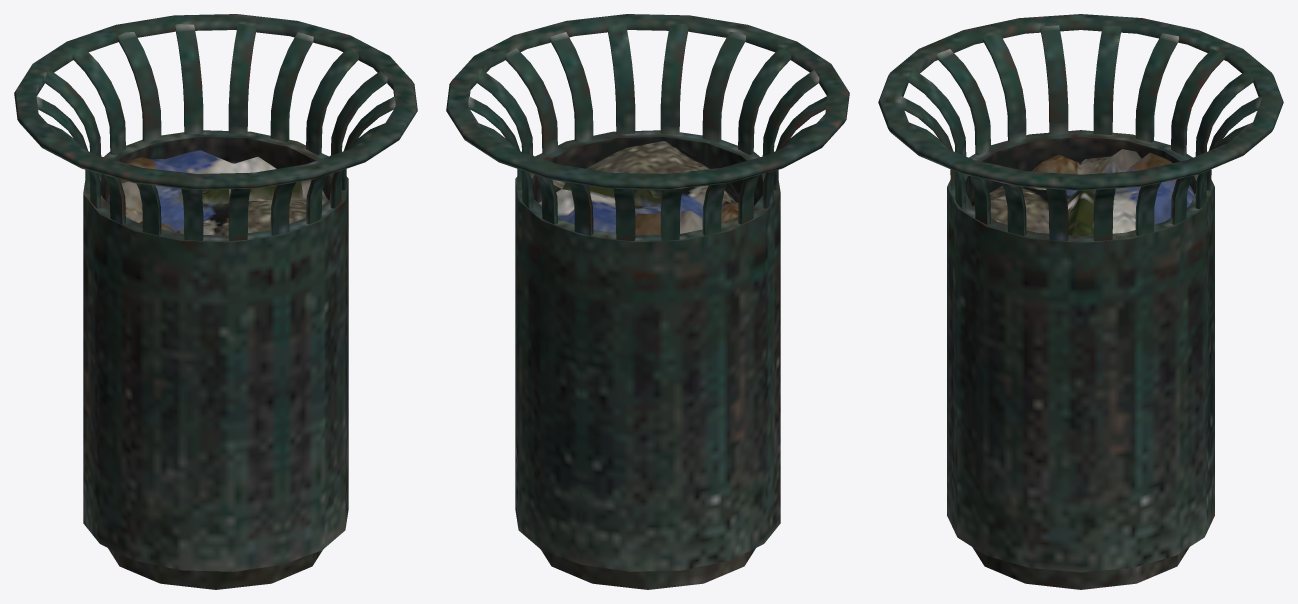
The model's file is 097_TrashBox.fbx.
3 renders of one model, left to right at view 1: azimuth 30°, elevation 25°; view 2: azimuth 150°, elevation 25°; view 3: azimuth 270°, elevation 25°, orthographic.
Visible parts, largest first — view 1: LOD_1_Group_2_Sub_1__sm30_097_TrashBoxC01A_A_Mat, LOD_1_Group_0_Sub_1__sm30_097_TrashBoxC01A_A_Mat, LOD_1_Group_1_Sub_1__sm30_097_TrashBoxC01A_A_Mat; view 2: LOD_1_Group_2_Sub_1__sm30_097_TrashBoxC01A_A_Mat, LOD_1_Group_0_Sub_1__sm30_097_TrashBoxC01A_A_Mat, LOD_1_Group_1_Sub_1__sm30_097_TrashBoxC01A_A_Mat; view 3: LOD_1_Group_2_Sub_1__sm30_097_TrashBoxC01A_A_Mat, LOD_1_Group_0_Sub_1__sm30_097_TrashBoxC01A_A_Mat, LOD_1_Group_1_Sub_1__sm30_097_TrashBoxC01A_A_Mat.
Part boxes in pixels (bbox=[...]): LOD_1_Group_2_Sub_1__sm30_097_TrashBoxC01A_A_Mat: bbox=[83, 130, 348, 589]; LOD_1_Group_0_Sub_1__sm30_097_TrashBoxC01A_A_Mat: bbox=[14, 14, 417, 240]; LOD_1_Group_1_Sub_1__sm30_097_TrashBoxC01A_A_Mat: bbox=[103, 150, 328, 235]; LOD_1_Group_2_Sub_1__sm30_097_TrashBoxC01A_A_Mat: bbox=[515, 130, 780, 589]; LOD_1_Group_0_Sub_1__sm30_097_TrashBoxC01A_A_Mat: bbox=[446, 14, 849, 240]; LOD_1_Group_1_Sub_1__sm30_097_TrashBoxC01A_A_Mat: bbox=[537, 141, 739, 235]; LOD_1_Group_2_Sub_1__sm30_097_TrashBoxC01A_A_Mat: bbox=[947, 130, 1214, 589]; LOD_1_Group_0_Sub_1__sm30_097_TrashBoxC01A_A_Mat: bbox=[878, 14, 1283, 241]; LOD_1_Group_1_Sub_1__sm30_097_TrashBoxC01A_A_Mat: bbox=[971, 149, 1194, 236].
Bounding box in the file's own units: 0.7082 × 0.8568 × 0.7082.
